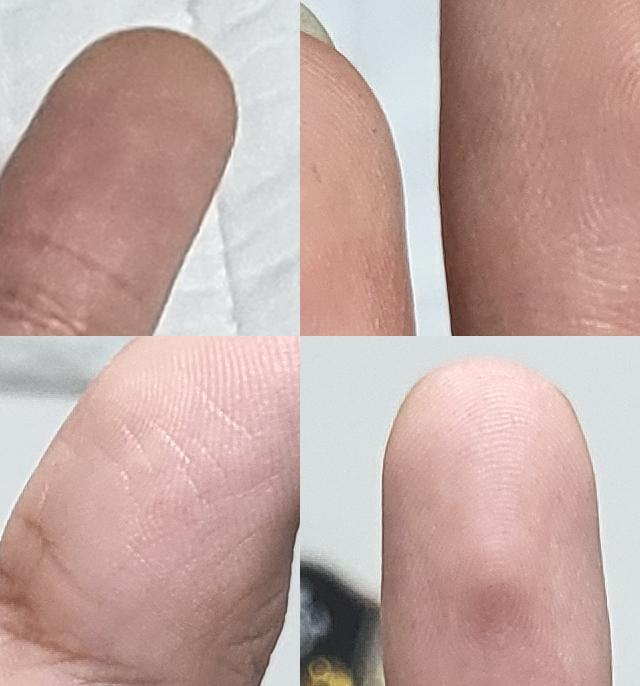Fingerprints: (0, 336, 300, 684), (380, 354, 612, 686), (0, 26, 238, 326)
